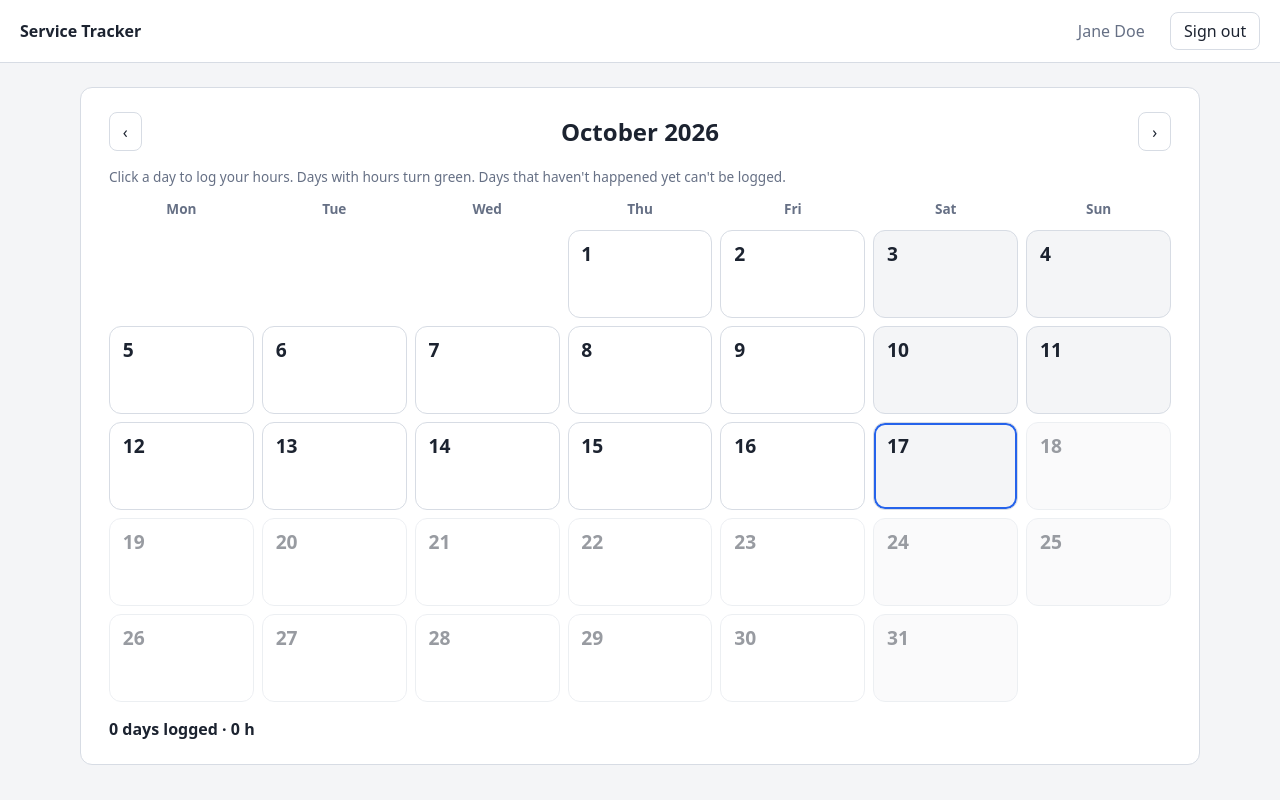
App › signing out clears the token and returns to the sign in page
The width and height of the screenshot is (1280, 800).
What coordinates should you click on to do the following:
click the button "Sign out"
I would click on:
 (1215, 31)
Its box is x1=1170 y1=12 x2=1260 y2=50.
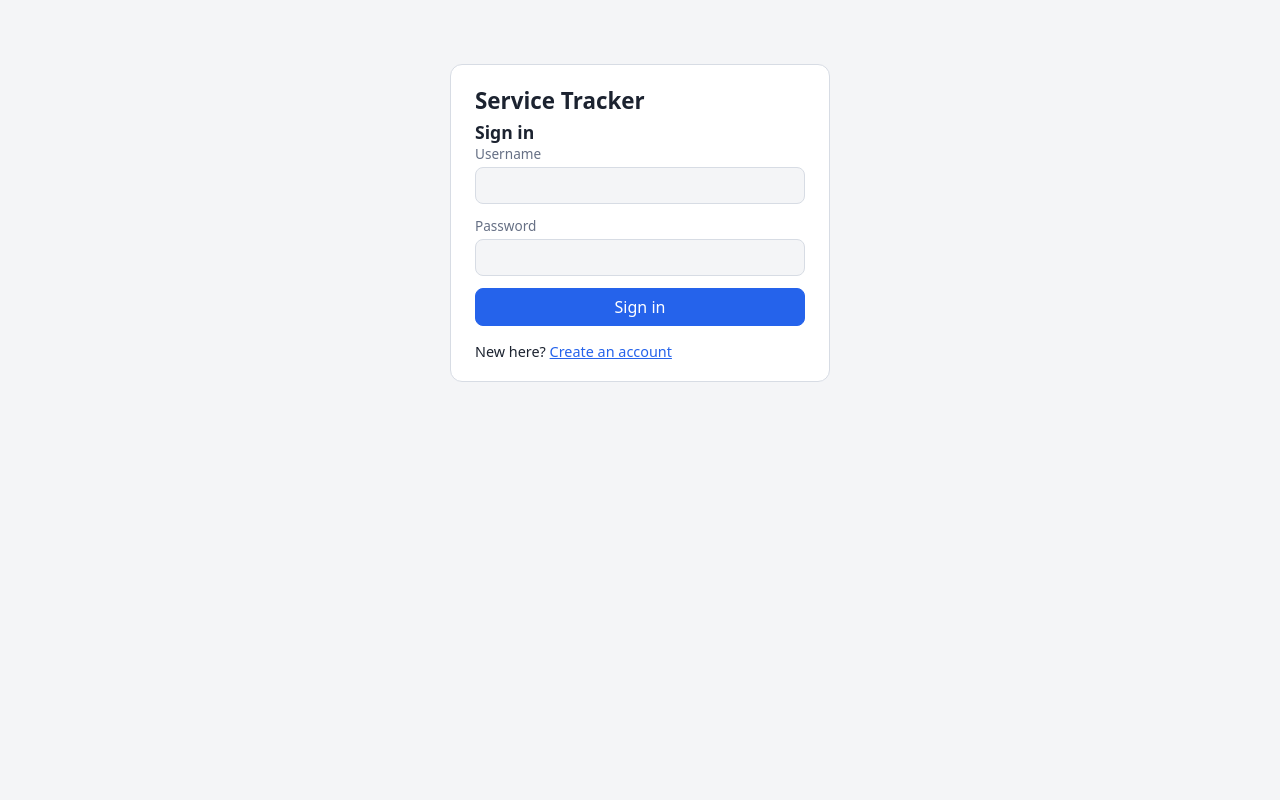
Check: the heading "Sign in" is shown, box x1=475 y1=120 x2=534 y2=144
